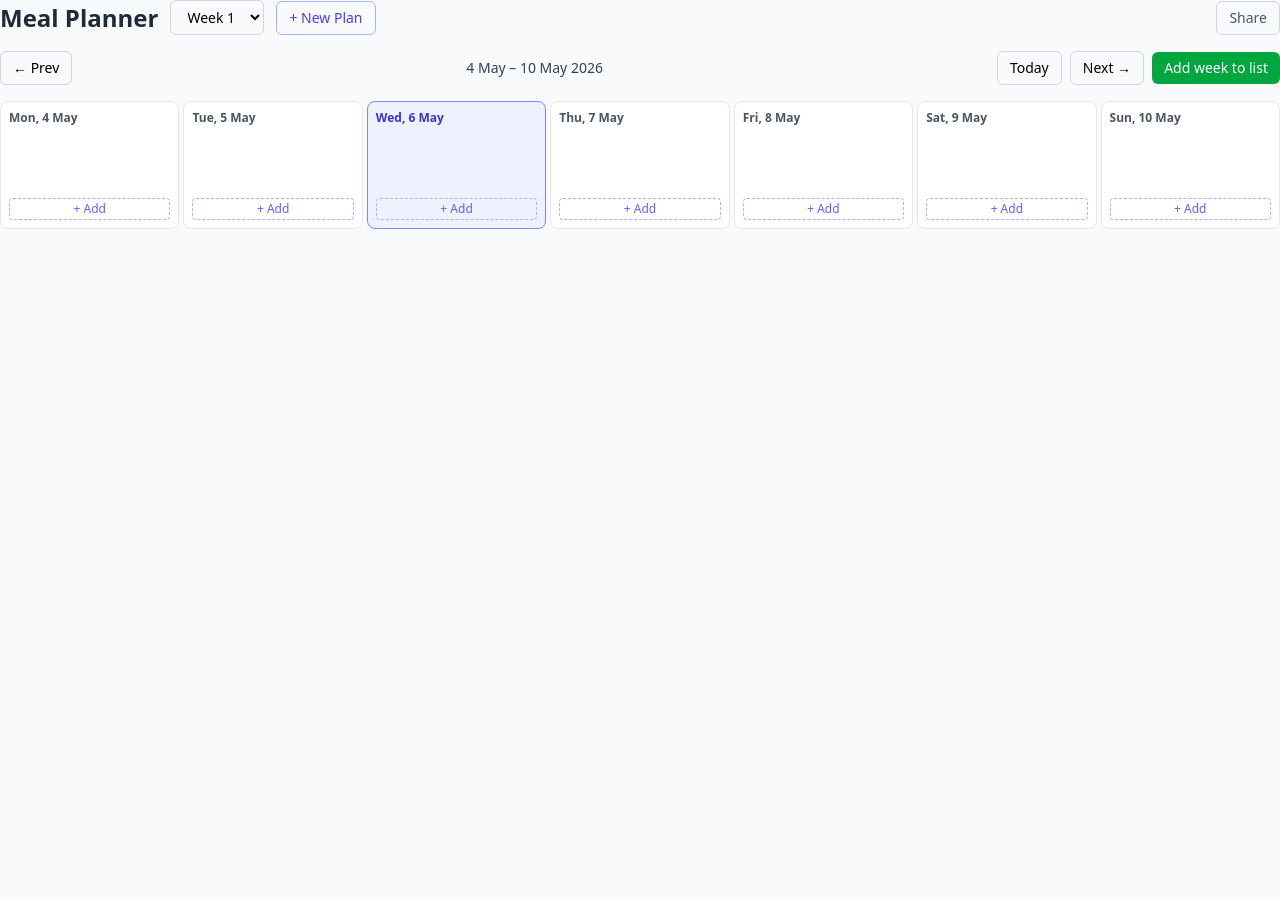
it: MealPlannerPage › clicking + Add opens modal entry form for that day
What coordinates should you click on to do the following:
click the button "+ Add" below "Mon, 4 May"
I would click on:
 (90, 209)
Its box is [9,198,170,220].
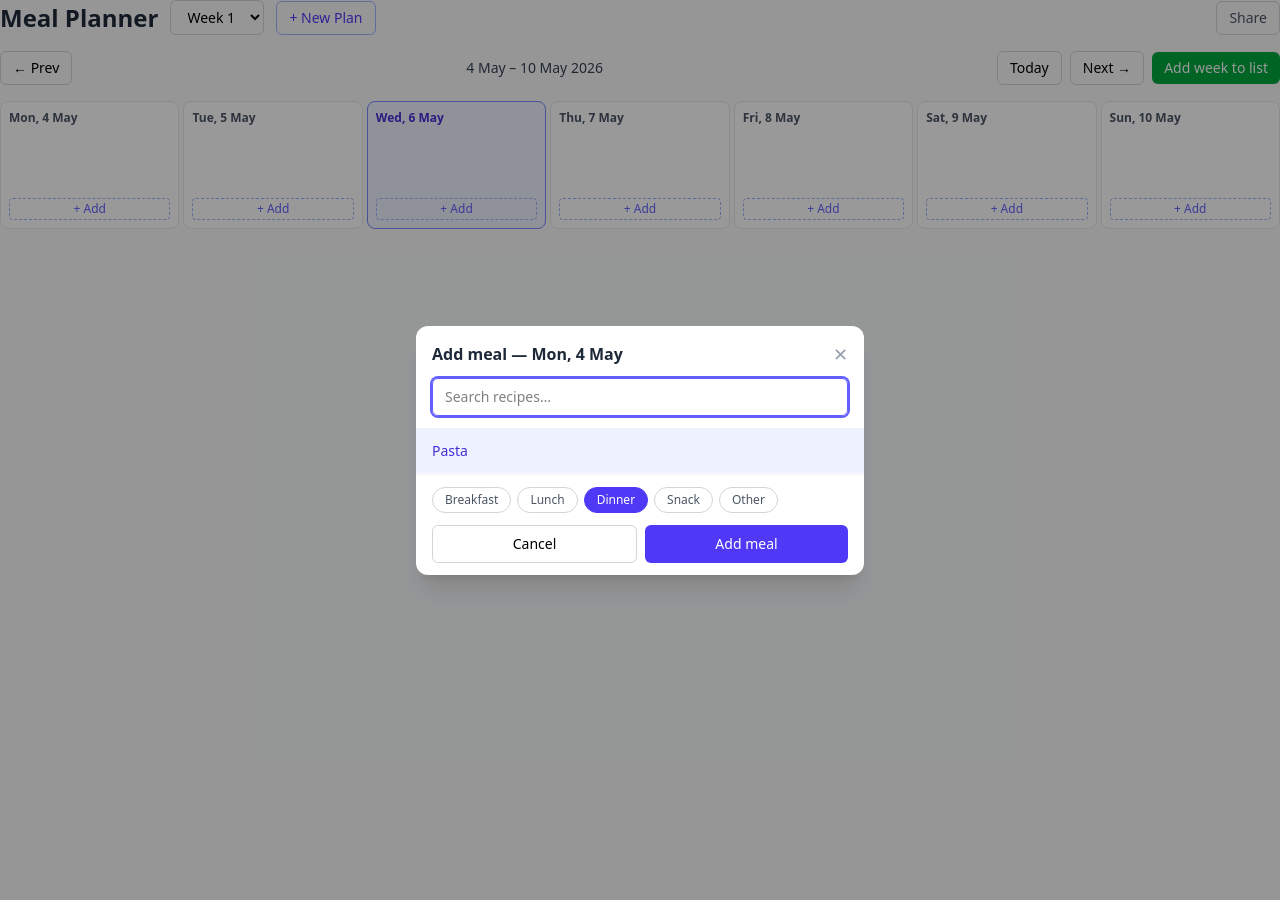
Expected: the button "Add meal" is shown, [645,524,848,562]
